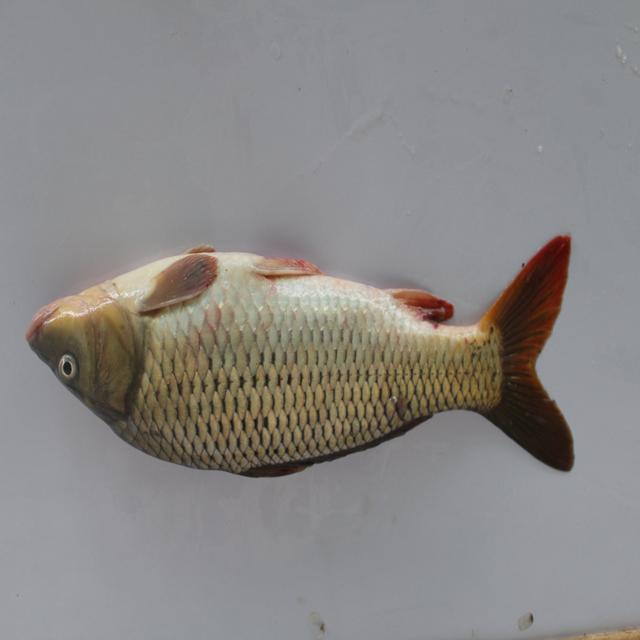CommonCarp: (26, 232, 620, 490)
